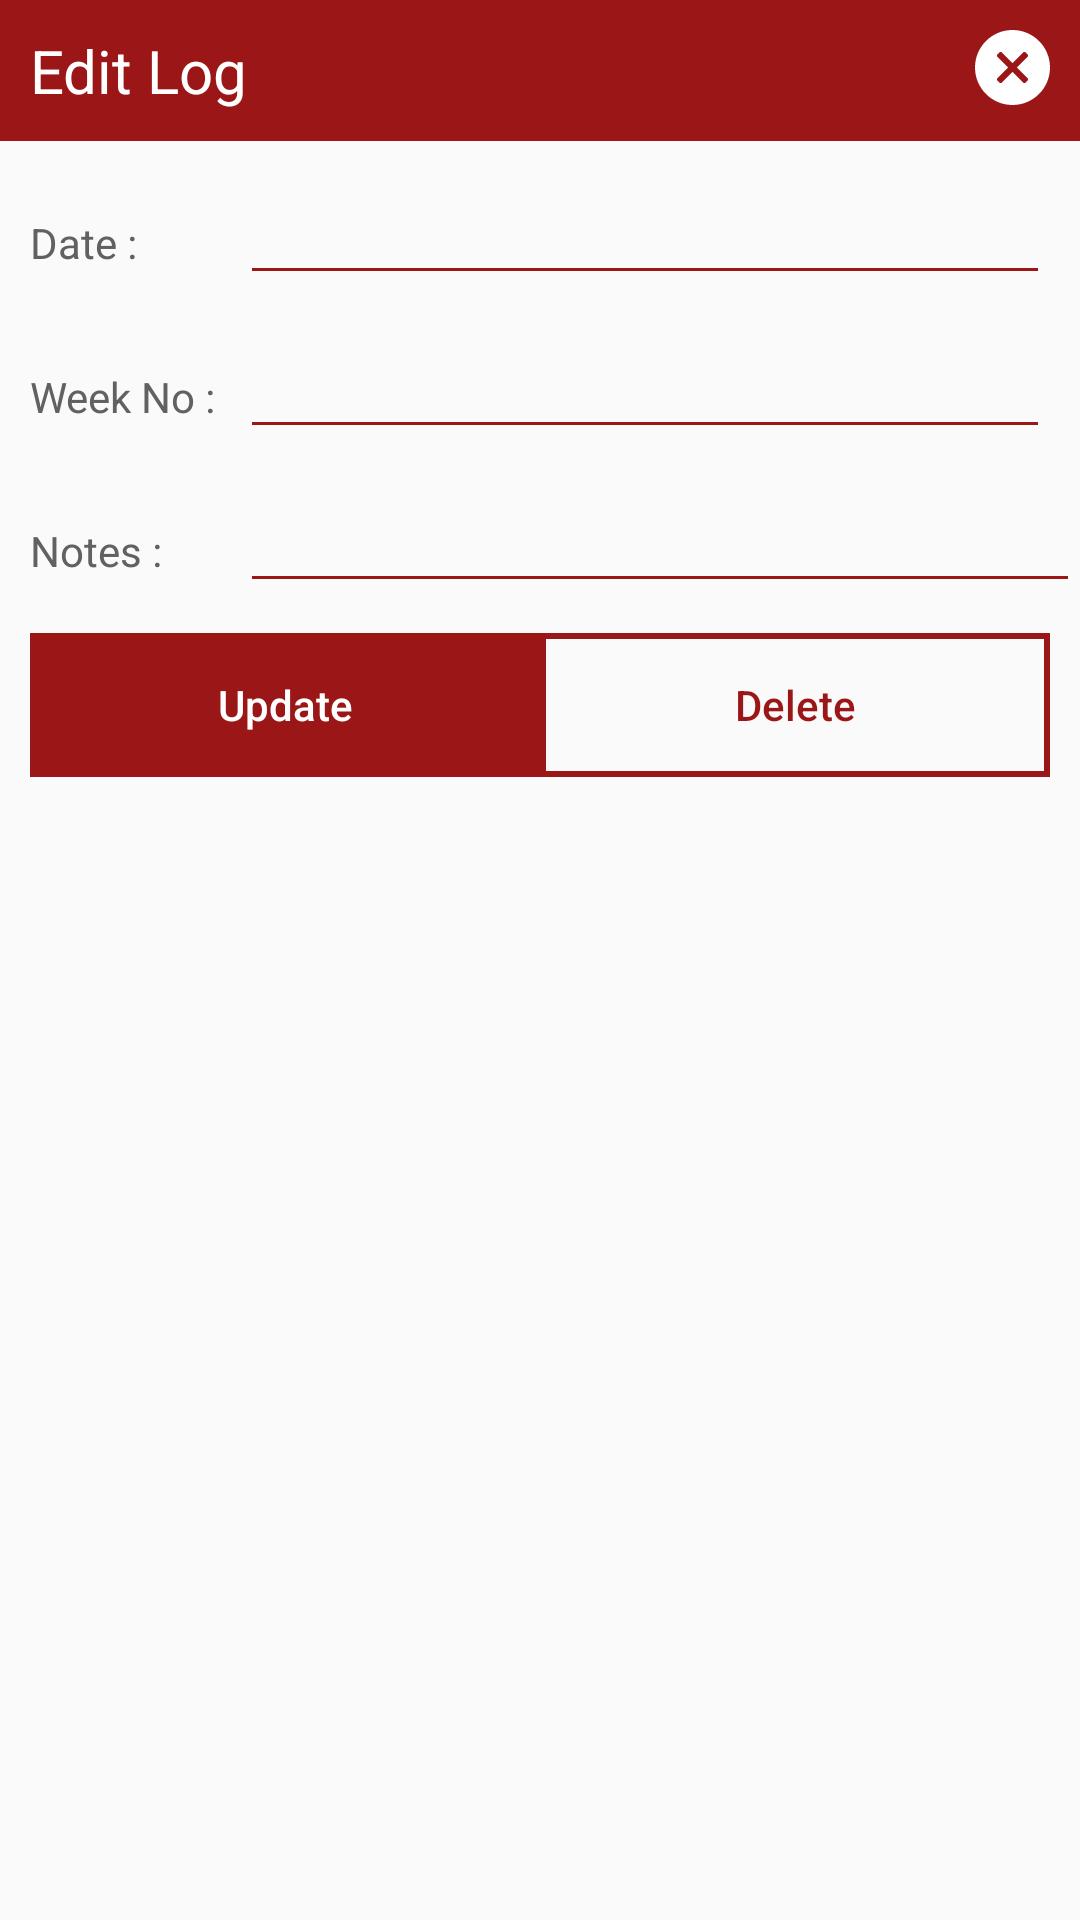

Where icons sit on this 1080px x 1920px app screen, as (x1, y1, x2, y2):
cancel: (975, 30, 1050, 105)
